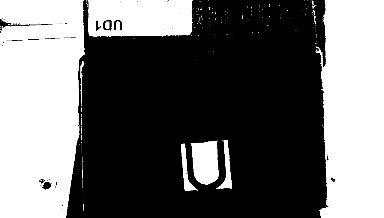U: (179, 141, 231, 188)
